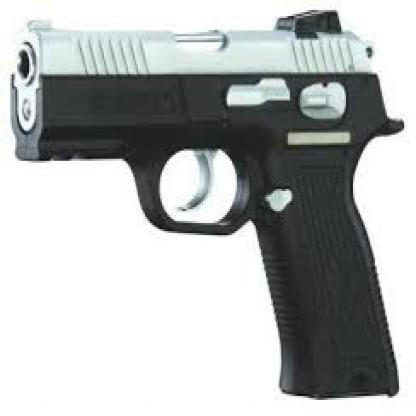Pistol: (2, 10, 406, 398)
